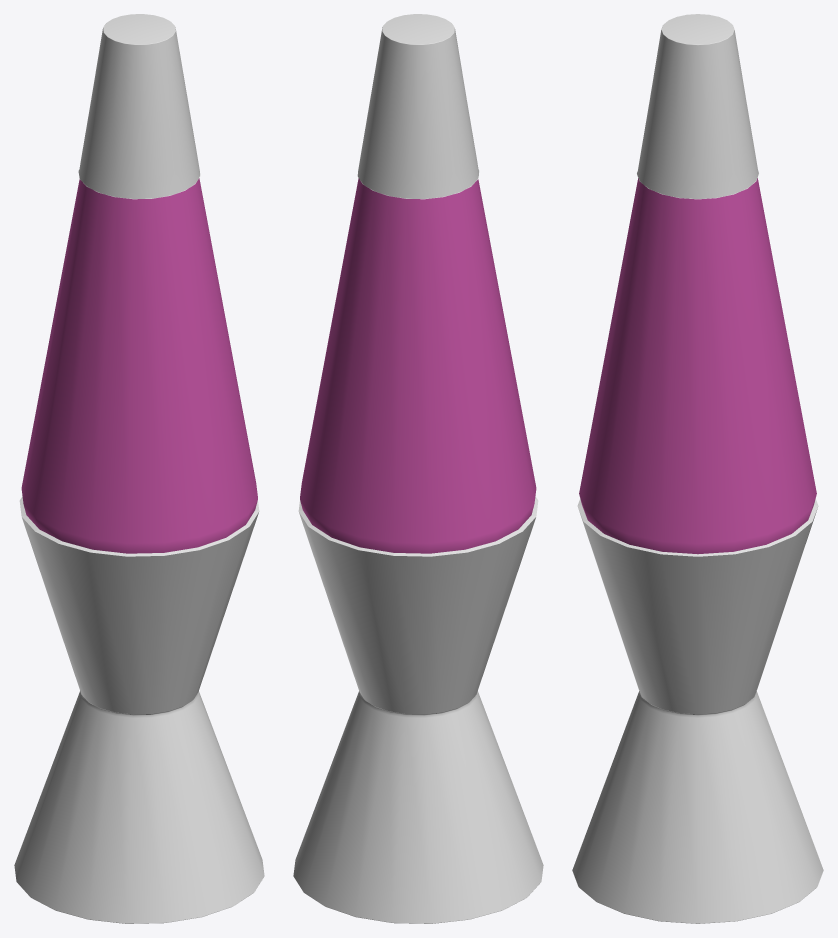
File: LavaLampActions2.fbx
3 views of the same model, side by side, from view 1: azimuth 30°, elevation 25°; view 2: azimuth 150°, elevation 25°; view 3: azimuth 270°, elevation 25° (orthographic).
Parts seen in each view (by area): view 1: Base, Glass, cap; view 2: Base, Glass, cap; view 3: Base, Glass, cap.
Part boxes in pixels (x1,y1,x2,y2): Base: (14, 496, 264, 923); Glass: (21, 178, 257, 553); cap: (78, 14, 200, 199); Base: (293, 496, 543, 923); Glass: (300, 178, 536, 553); cap: (357, 14, 479, 199); Base: (572, 499, 823, 923); Glass: (579, 178, 816, 554); cap: (637, 14, 758, 199).
Size of the model in its own units: 392 by 1448 by 392.
